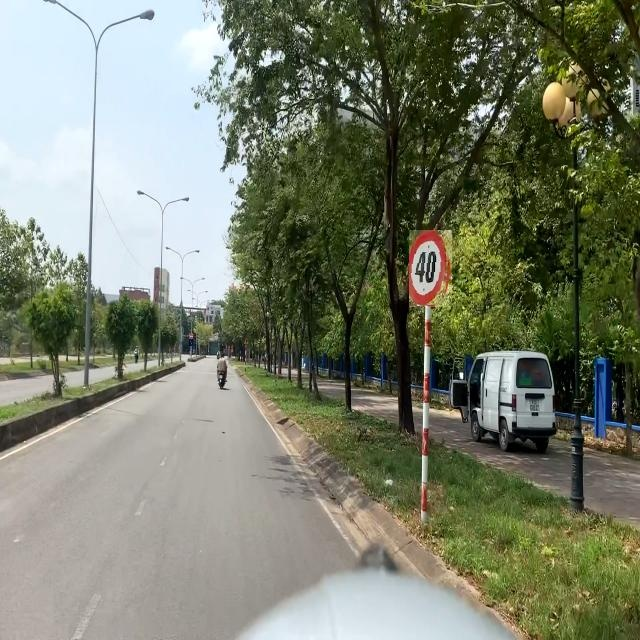bien_hieu_lenh: (409, 230, 452, 307), (189, 339, 193, 346), (189, 333, 193, 339)
